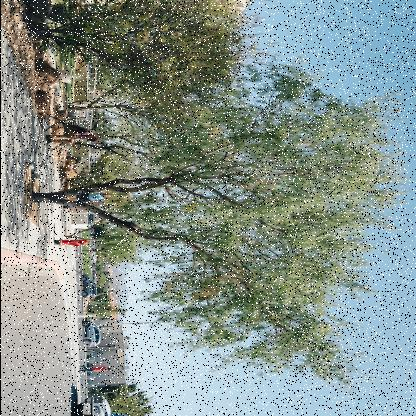Tree: (10, 75, 406, 394), (31, 1, 278, 109), (50, 104, 250, 186), (60, 62, 256, 135), (64, 150, 142, 216), (68, 230, 148, 268), (82, 384, 159, 415), (79, 302, 127, 324)
